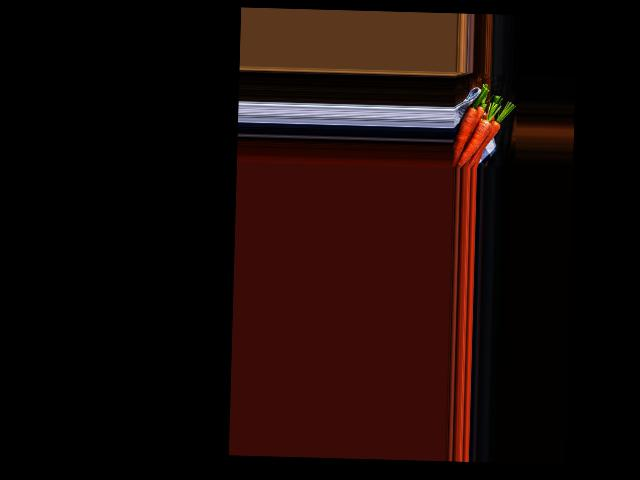carrot: (452, 98, 477, 168)
